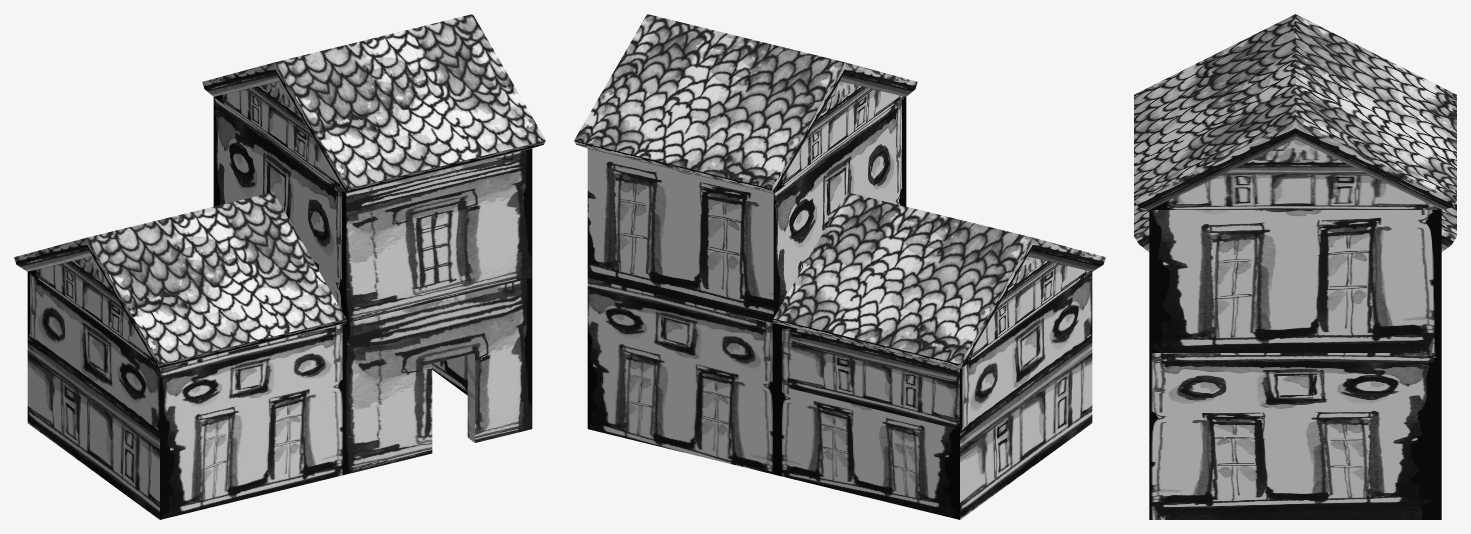
The model's file is House12.fbx.
3 views of the same model, side by side, from view 1: azimuth 30°, elevation 25°; view 2: azimuth 150°, elevation 25°; view 3: azimuth 270°, elevation 25° (orthographic). The views are drawn at different scales.
Parts seen in each view (by area): view 1: HouseBlock01, Roof01, HouseBlock03, Roof02, HouseBlock02; view 2: HouseBlock01, Roof01, HouseBlock03, Roof02, HouseBlock02; view 3: Roof01, HouseBlock02, HouseBlock03, Roof02.
Part boxes in pixels (x1,y1,x2,y2): HouseBlock01: [27, 272, 346, 519]; Roof01: [202, 14, 545, 193]; HouseBlock03: [213, 97, 532, 322]; Roof02: [14, 192, 346, 368]; HouseBlock02: [346, 278, 532, 474]; HouseBlock01: [773, 272, 1092, 519]; Roof01: [574, 14, 917, 193]; HouseBlock03: [587, 97, 906, 322]; Roof02: [773, 192, 1105, 368]; HouseBlock02: [587, 278, 773, 474]; Roof01: [1134, 14, 1456, 209]; HouseBlock02: [1149, 353, 1441, 519]; HouseBlock03: [1149, 210, 1441, 352]; Roof02: [1134, 201, 1456, 251].
Size of the model in its own units: 26.92 by 24.34 by 17.66.
